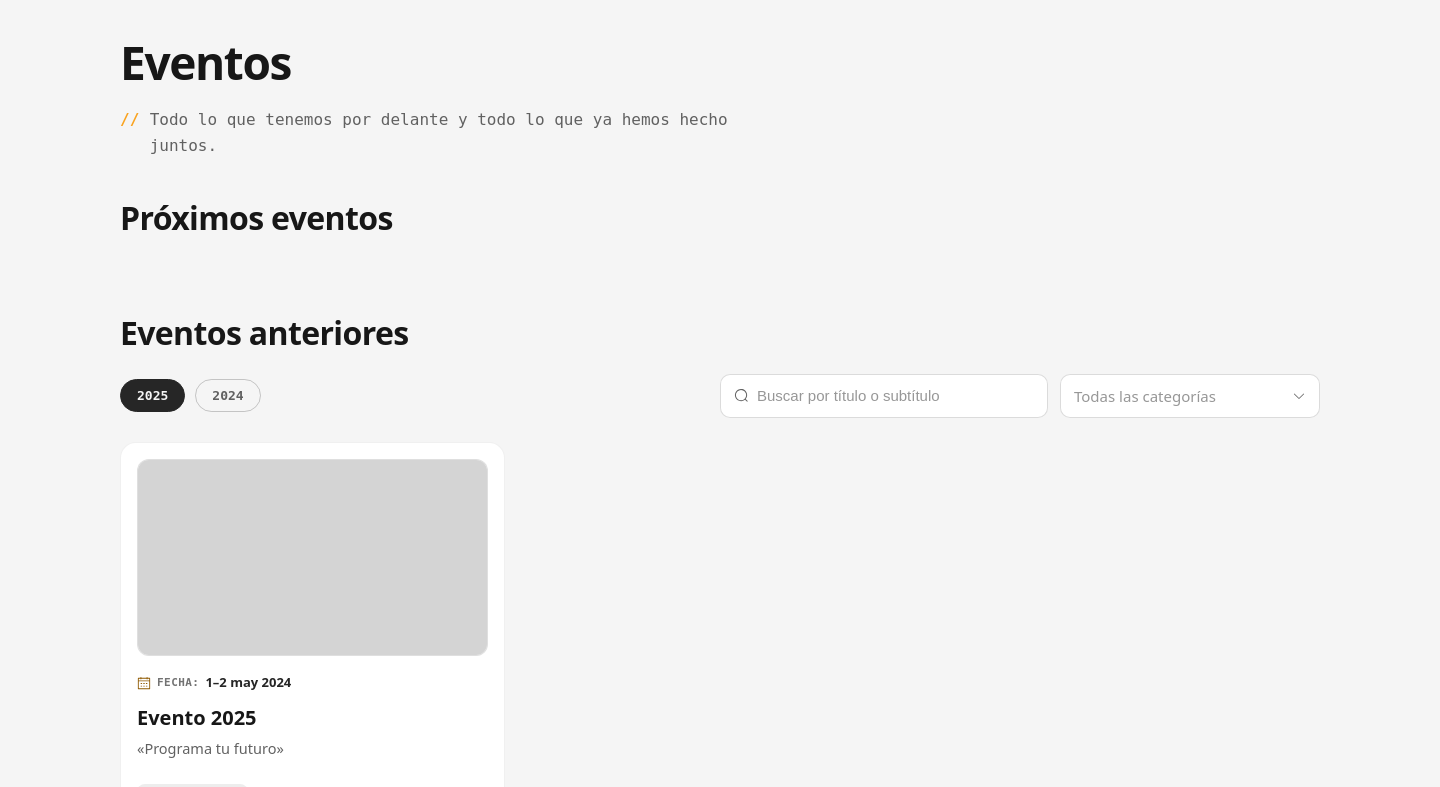
Test case: events page › filters past events by year
Click the button with class "year-filter__pill" showing "2024": (228, 396) [195, 379, 261, 412]
(page scrolled)
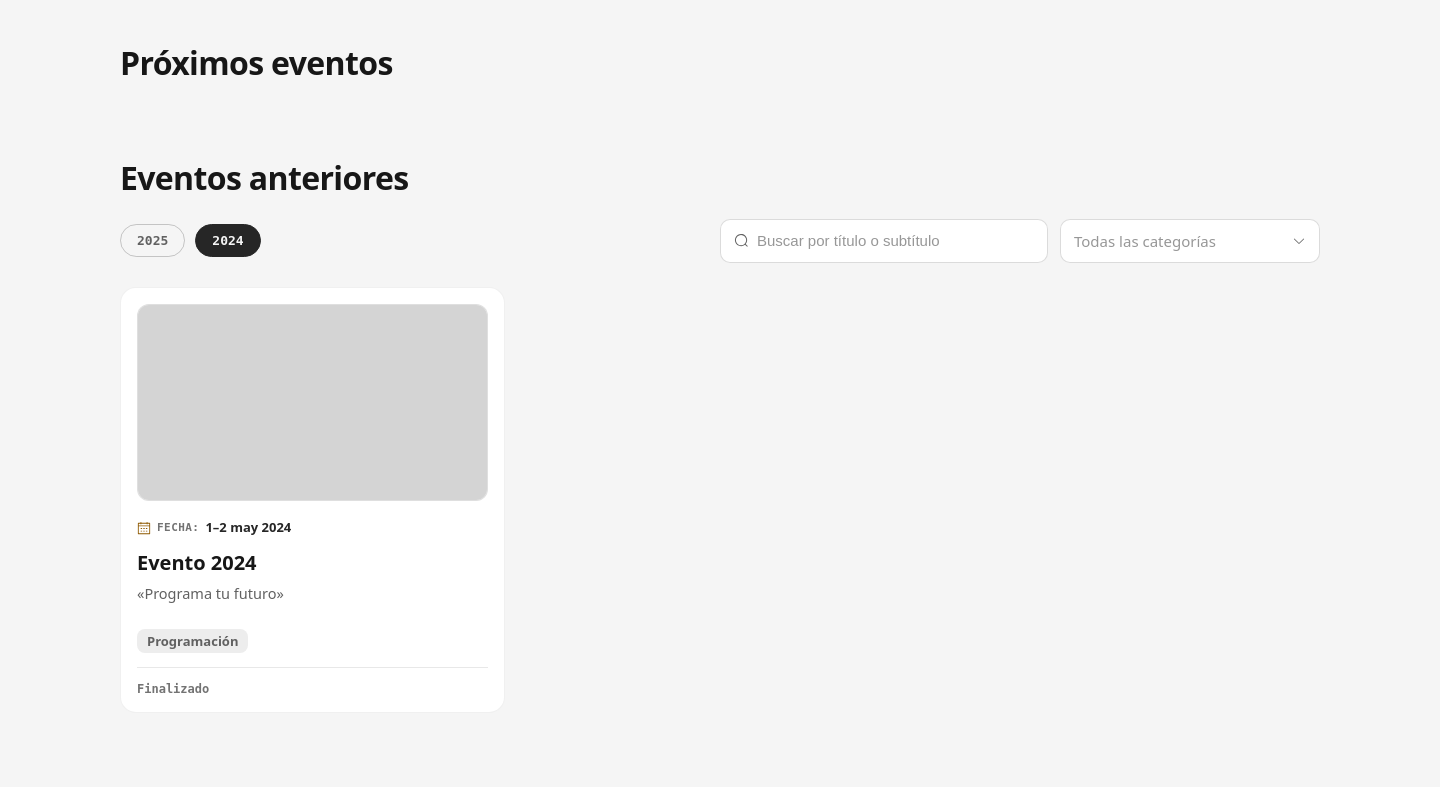
Check: the element with class "events-grid" shows "Evento 2024", box [120, 287, 505, 713]
